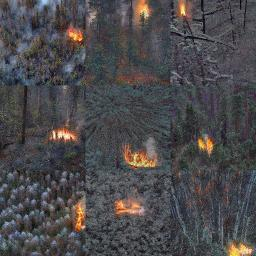Small fire: (113, 195, 155, 222), (122, 145, 158, 172), (50, 123, 81, 152), (131, 1, 158, 29), (223, 237, 256, 256), (195, 136, 220, 160), (71, 200, 86, 237), (175, 0, 196, 20), (65, 25, 87, 44)
